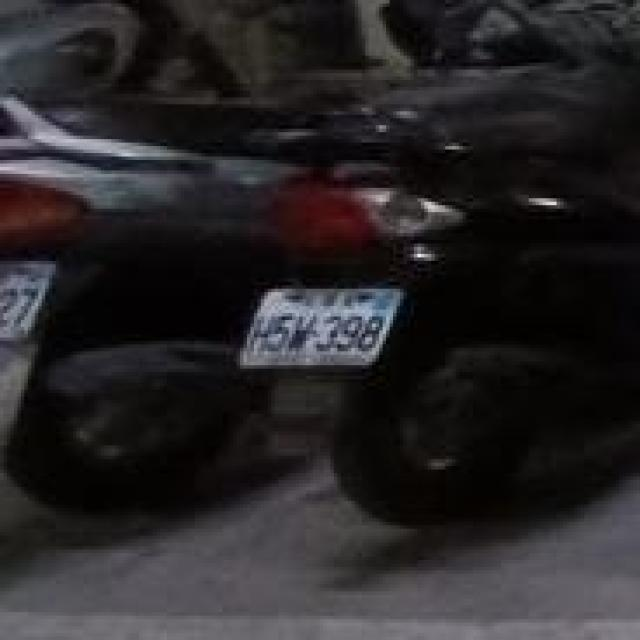W: (230, 250, 418, 400)
